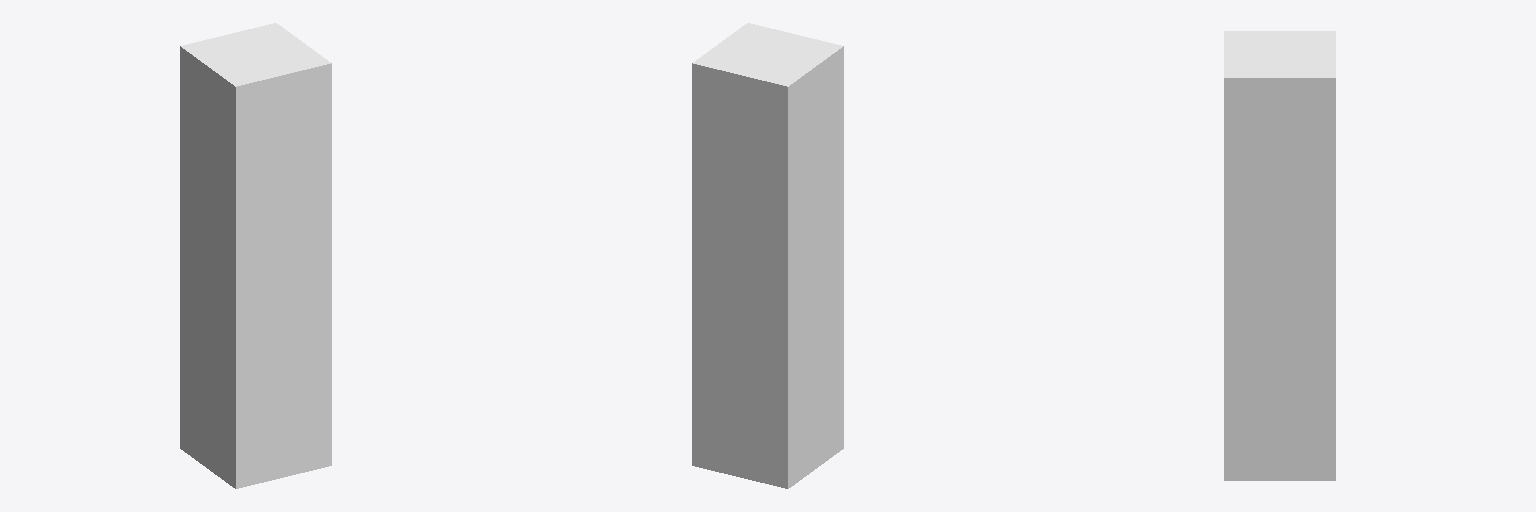
3 renders of one model, left to right at view 1: azimuth 30°, elevation 25°; view 2: azimuth 150°, elevation 25°; view 3: azimuth 270°, elevation 25°, orthographic.
Visible parts, largest first — view 1: object 1; view 2: object 1; view 3: object 1.
Part boxes in pixels (left/top/right/bottom): object 1: left=180, top=23, right=331, bottom=488; object 1: left=692, top=23, right=843, bottom=488; object 1: left=1224, top=31, right=1335, bottom=480.
Size of the model in its own units: 0.2 by 0.8 by 0.2.
Materials: 1 (1 with a texture image).